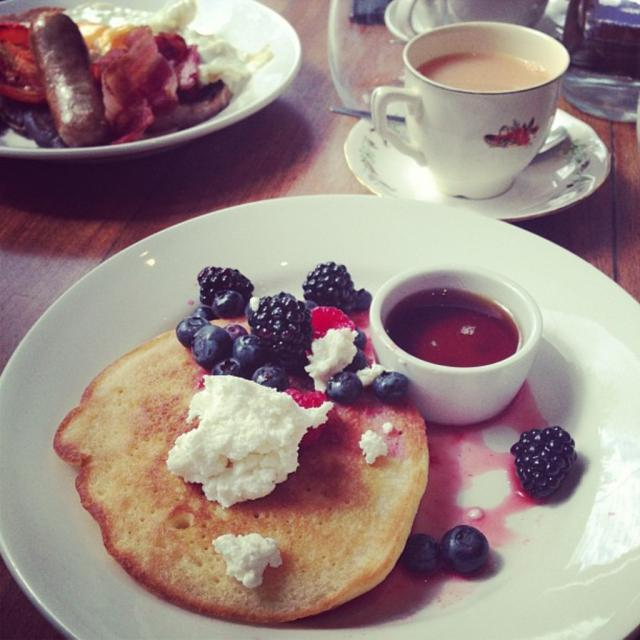Coffee: (417, 47, 552, 95)
Tea: (418, 53, 547, 90)
